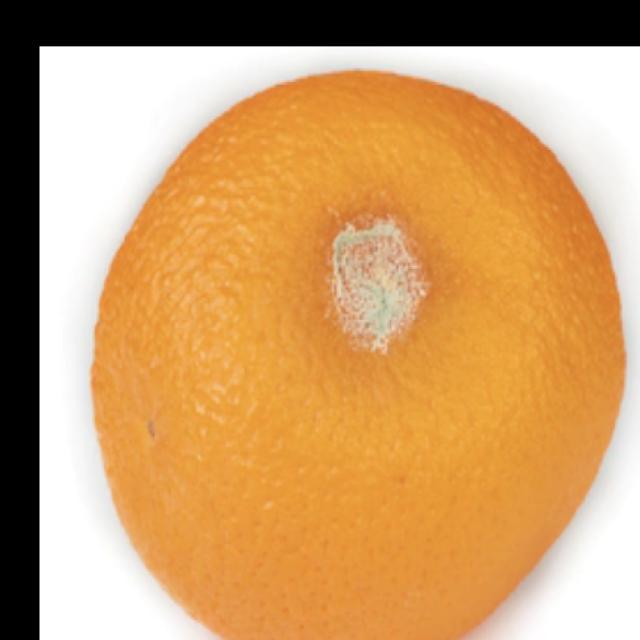sedikit-busuk: (92, 72, 623, 639)
